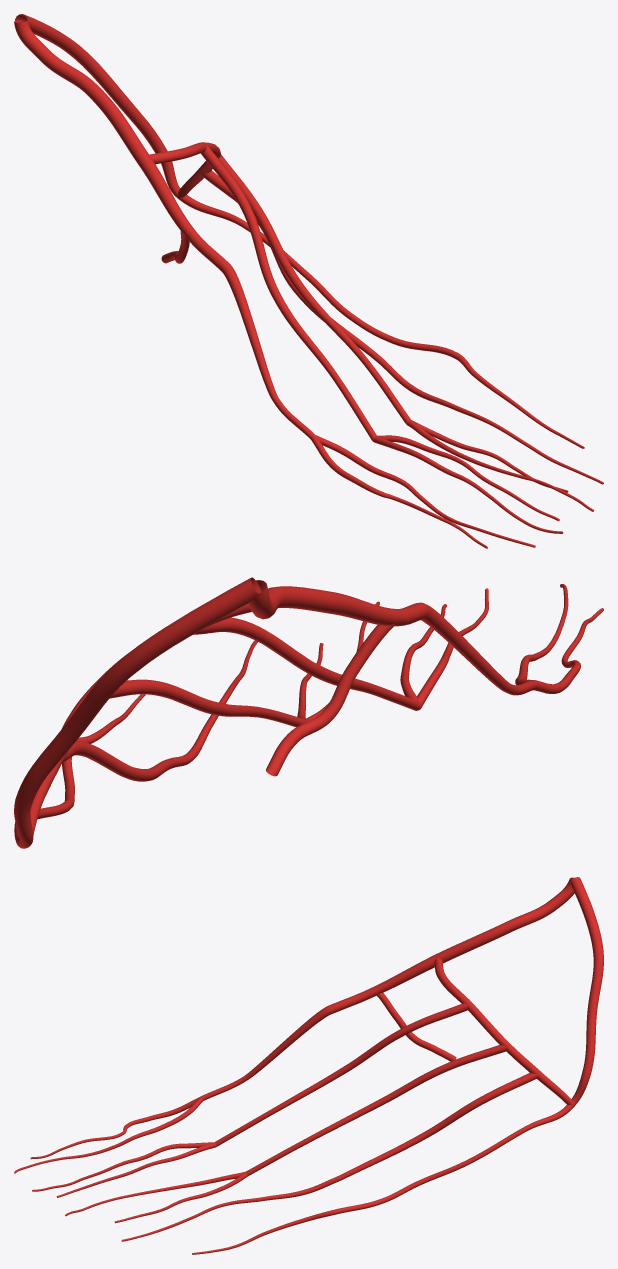
File: circulatorio-dorsalis-pedis-artery-l.glb
3 views of the same model, one above another, from view 1: azimuth 30°, elevation 25°; view 2: azimuth 150°, elevation 25°; view 3: azimuth 270°, elevation 25° (orthographic). The views are drawn at different scales.
Parts seen in each view (by area): view 1: Dorsal digital arteries of foot.l, Dorsal metatarsal arteries.l, Dorsalis pedis artery.l, Lateral tarsal artery.l, Arcuate artery.l; view 2: Dorsal metatarsal arteries.l, Lateral tarsal artery.l, Dorsal digital arteries of foot.l, Dorsalis pedis artery.l, Deep plantar artery.l, Arcuate artery.l; view 3: Dorsal digital arteries of foot.l, Dorsal metatarsal arteries.l, Dorsalis pedis artery.l, Lateral tarsal artery.l, Arcuate artery.l, Deep plantar artery.l.
Boxes of the visible parts, x1=… form: Dorsal digital arteries of foot.l: x1=178, y1=195, x2=603, y2=548; Dorsal metatarsal arteries.l: x1=200, y1=144, x2=410, y2=441; Dorsalis pedis artery.l: x1=14, y1=19, x2=228, y2=270; Lateral tarsal artery.l: x1=15, y1=14, x2=180, y2=198; Arcuate artery.l: x1=149, y1=142, x2=220, y2=197; Dorsal metatarsal arteries.l: x1=62, y1=602, x2=538, y2=781; Lateral tarsal artery.l: x1=14, y1=577, x2=261, y2=847; Dorsal digital arteries of foot.l: x1=14, y1=584, x2=603, y2=848; Dorsalis pedis artery.l: x1=249, y1=580, x2=427, y2=626; Deep plantar artery.l: x1=266, y1=623, x2=395, y2=776; Arcuate artery.l: x1=30, y1=603, x2=251, y2=835; Dorsal digital arteries of foot.l: x1=14, y1=1096, x2=574, y2=1254; Dorsal metatarsal arteries.l: x1=201, y1=1003, x2=537, y2=1180; Dorsalis pedis artery.l: x1=329, y1=877, x2=574, y2=1013; Lateral tarsal artery.l: x1=571, y1=877, x2=603, y2=1106; Arcuate artery.l: x1=434, y1=958, x2=573, y2=1105; Deep plantar artery.l: x1=377, y1=993, x2=456, y2=1061.
Bounding box in the file's own units: 0.0762 × 0.0744 × 0.1541.
